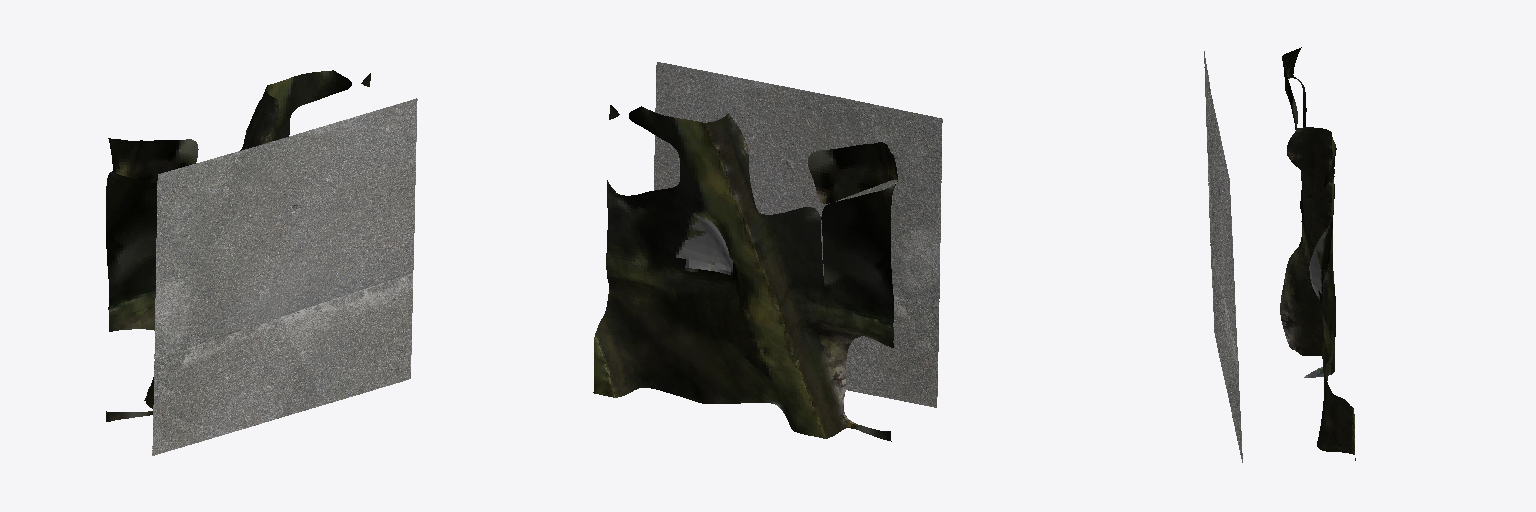
3 renders of one model, left to right at view 1: azimuth 30°, elevation 25°; view 2: azimuth 150°, elevation 25°; view 3: azimuth 270°, elevation 25°, orthographic.
Bounding box in the file's own units: 3.03 × 3.03 × 1.46.
Materials: 2 (1 with a texture image).